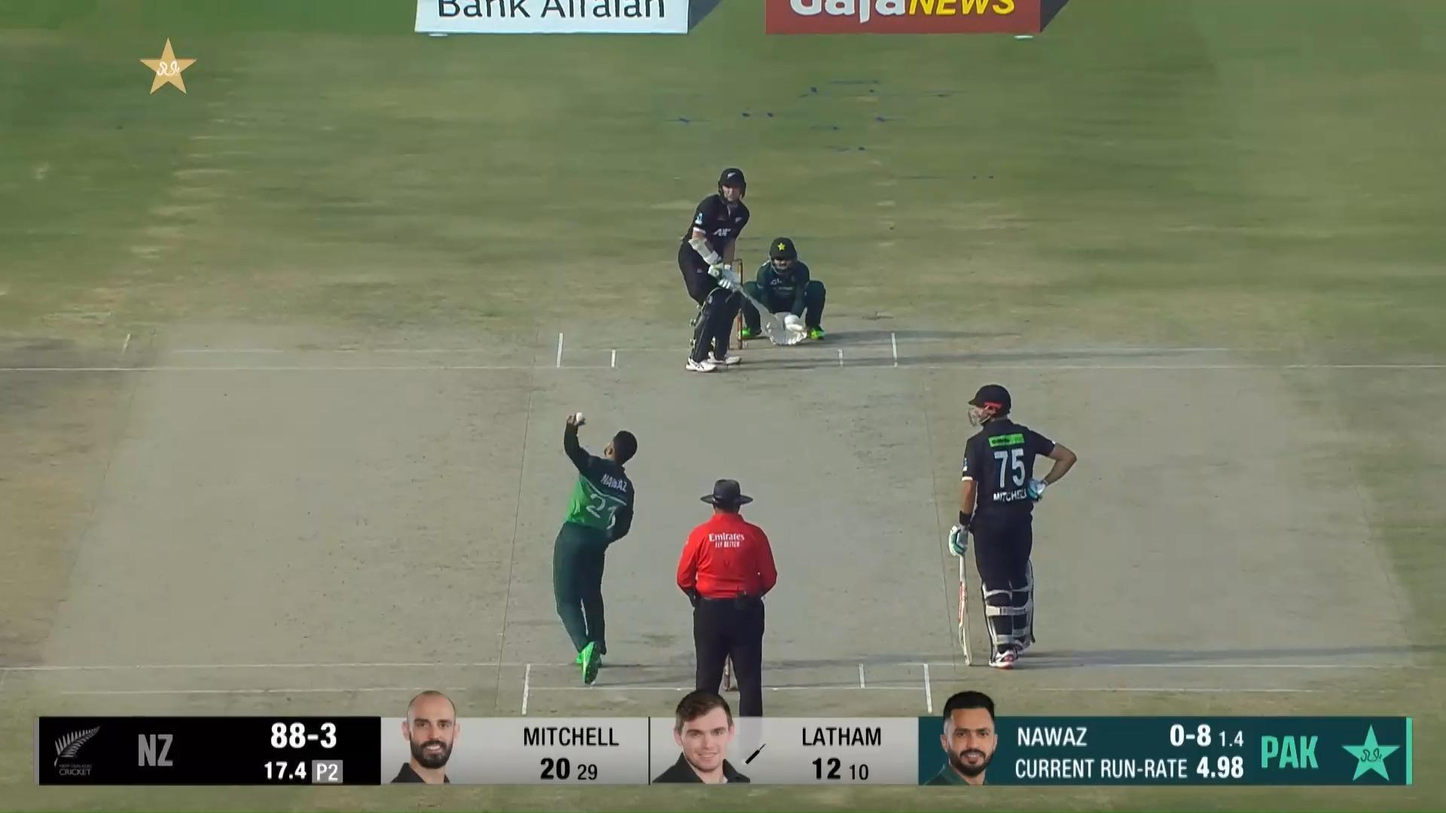BM 1: (677, 167, 787, 373)
BO: (548, 411, 642, 685)
